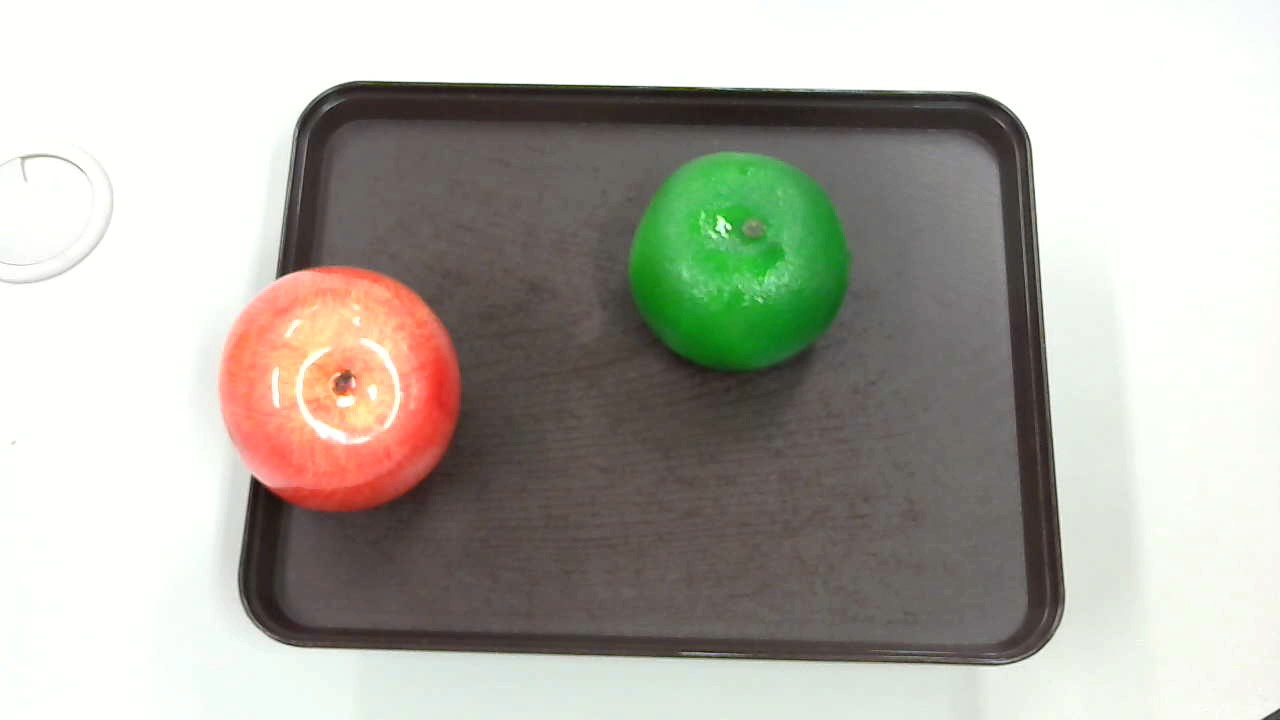green orange: (623, 146, 854, 374)
red apple: (217, 263, 459, 507)
